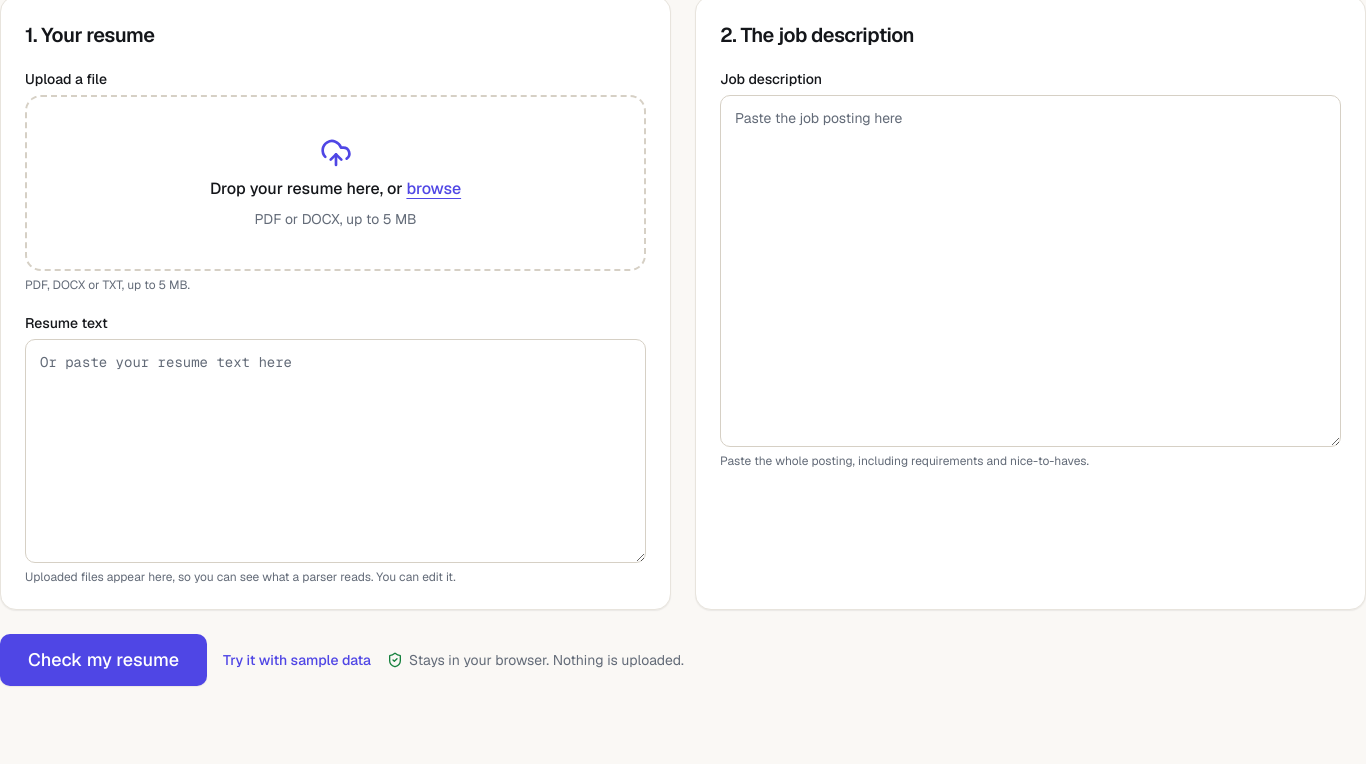
AtsChecker › analyses the sample, focuses the result, and shows matched and missing keywords
What coordinates should you click on to do the following:
click the button "Try it with sample data"
I would click on:
 (297, 660)
Its box is [223, 650, 371, 670].
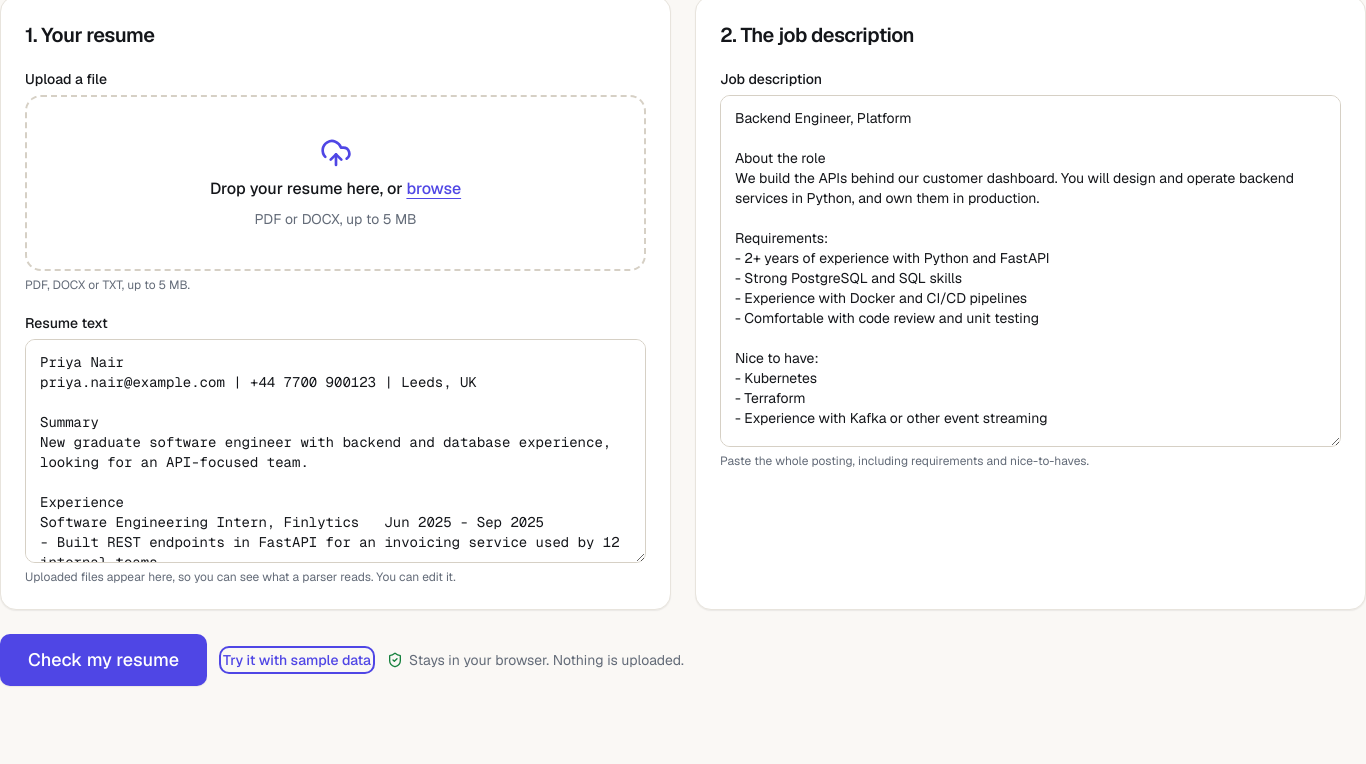
What coordinates should you click on to do the following:
click the button "Check my resume"
I would click on:
 (104, 660)
Its box is [0, 634, 207, 686].
(page scrolled)
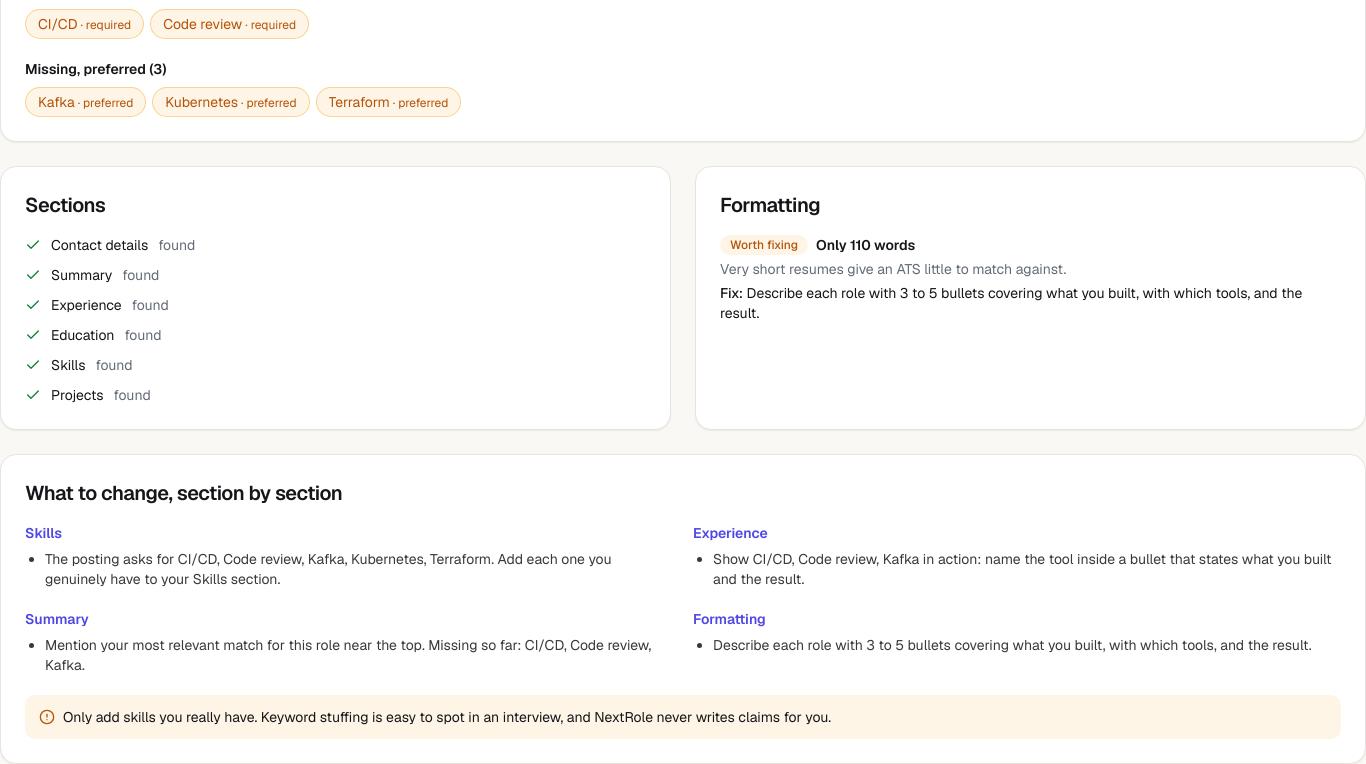
Expected: the text "Kubernetes · preferred" is shown, [165, 92, 297, 112]
Expected: the text "Only add skills you really have" is shown, [63, 708, 831, 726]
